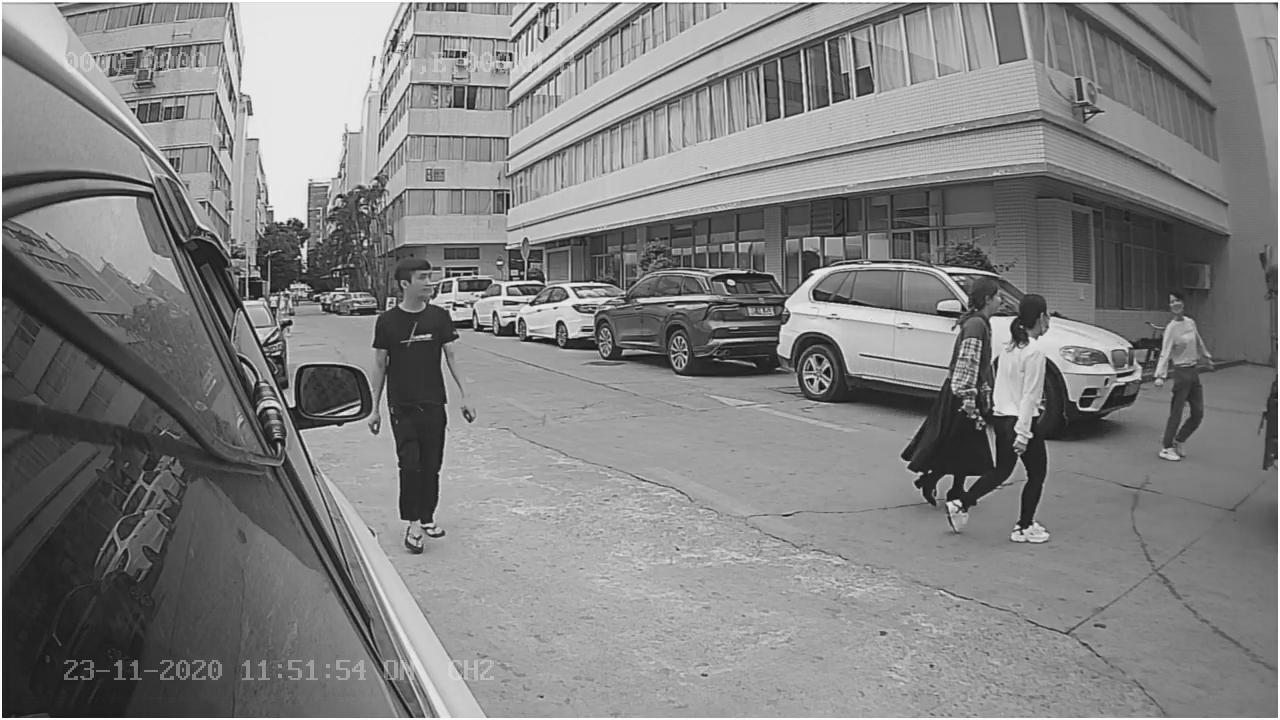person: (363, 253, 483, 550), (940, 287, 1051, 542), (1143, 285, 1226, 461)
